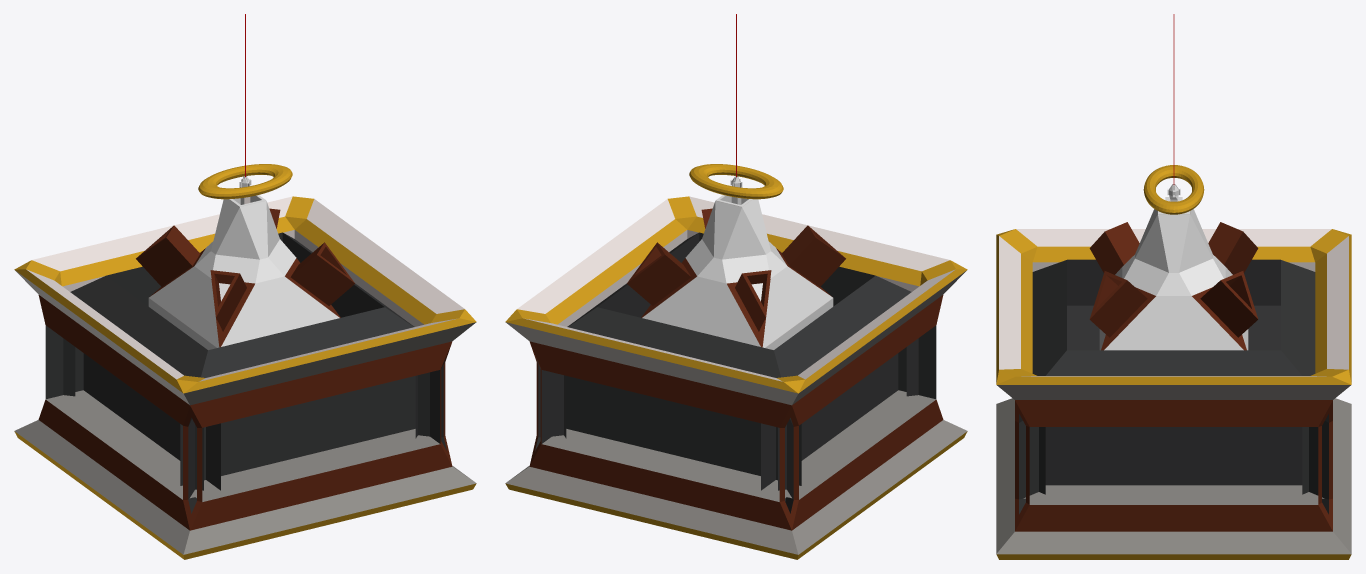
Rendered from BLABLABLA 1.fbx.
3 views of the same model, side by side, from view 1: azimuth 30°, elevation 25°; view 2: azimuth 150°, elevation 25°; view 3: azimuth 270°, elevation 25° (orthographic). The views are drawn at different scales.
Parts seen in each view (by area): view 1: Cube, Cube.001; view 2: Cube, Cube.001; view 3: Cube, Cube.001.
Part boxes in pixels (x1,y1,x2,y2): Cube: (14,14,476,559); Cube.001: (198,164,292,199); Cube: (505,14,967,559); Cube.001: (689,164,783,199); Cube: (996,14,1351,559); Cube.001: (1143,165,1204,214).
Size of the model in its own units: 740 by 1084 by 740.
